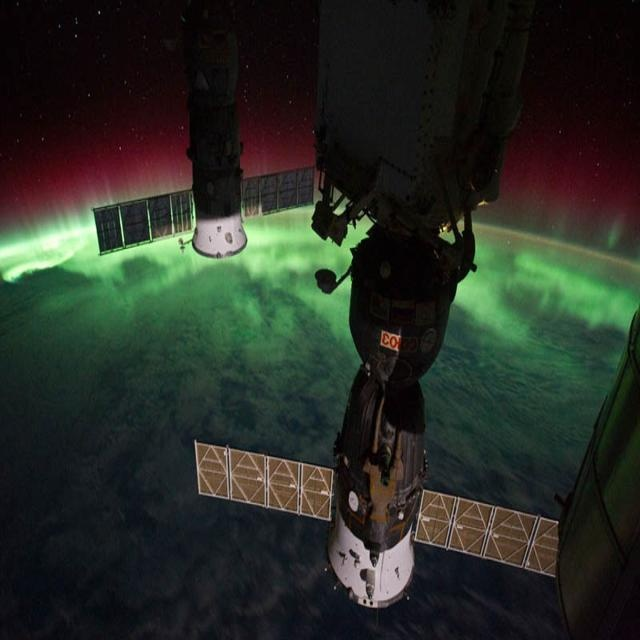medium_debris: (176, 62, 567, 613), (88, 73, 312, 270)
